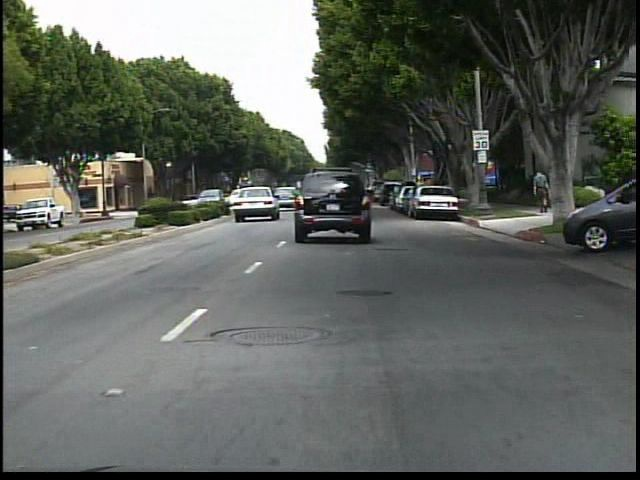person: (529, 165, 552, 216)
